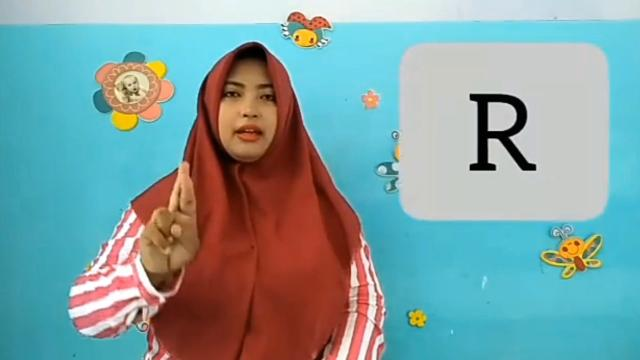Q: (138, 156, 204, 276)
